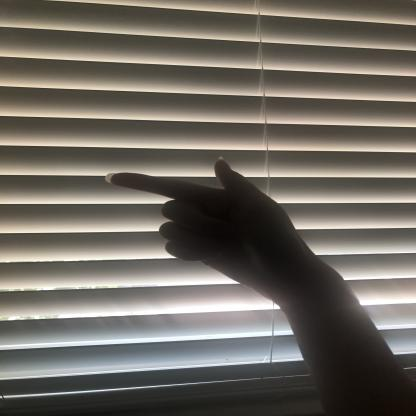finger_point: (95, 166, 229, 206)
